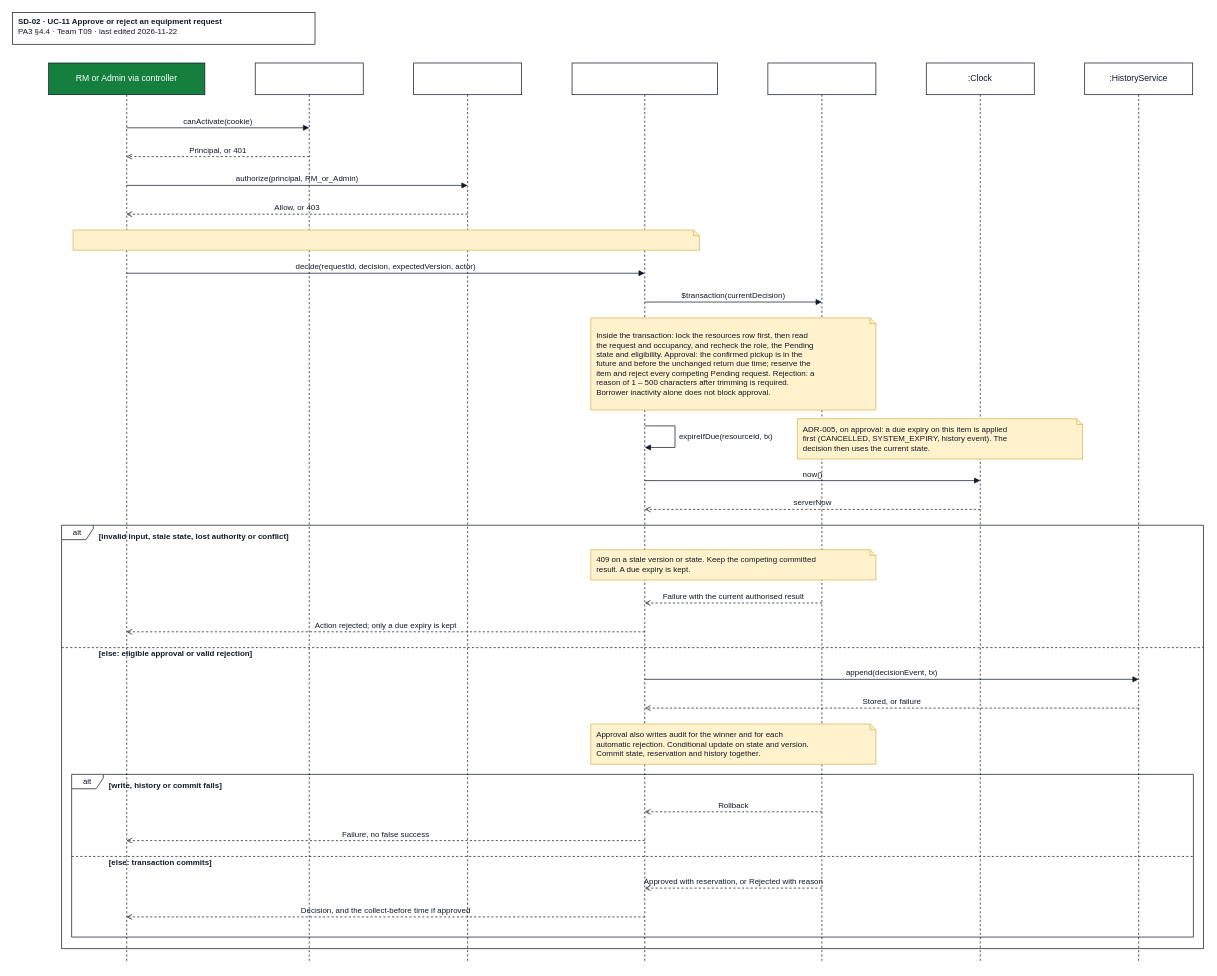
Image size: 1217x976. Some labels were removed from this diagram. Each missing label, with the box of its shape:
:EquipmentRequestService: (571, 62, 717, 963)
:PrismaService: (767, 62, 876, 963)
:RolesGuard: (413, 62, 522, 963)
:SessionGuard: (255, 62, 363, 963)
Proceed only if both guards allow.: (72, 229, 699, 250)
